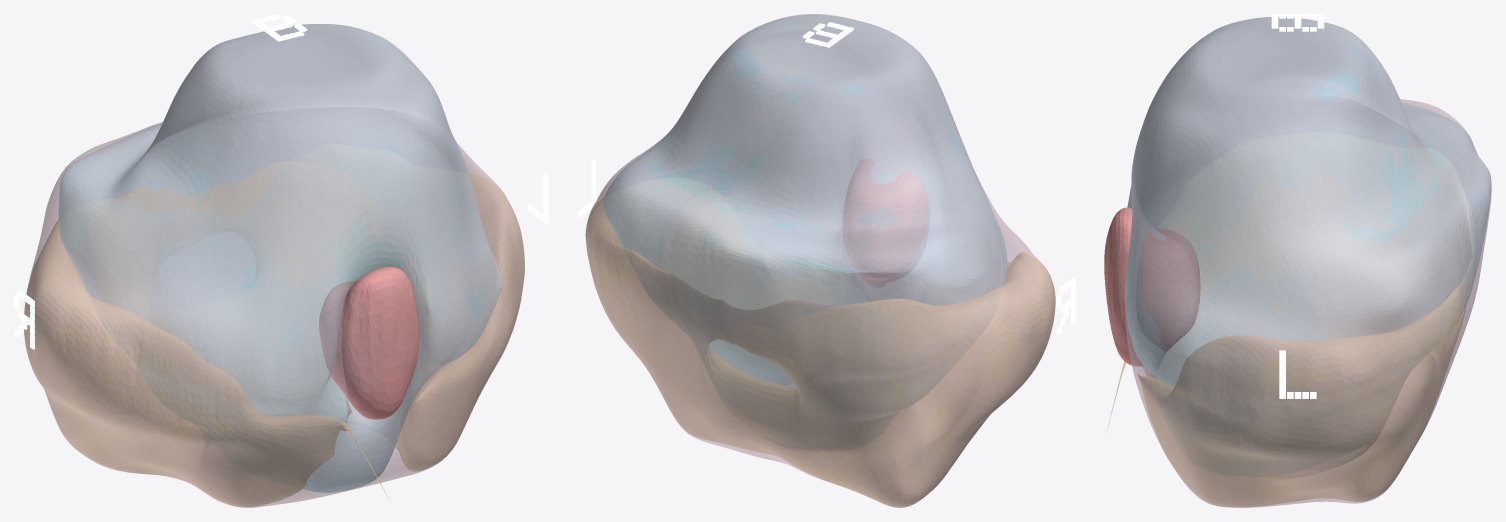
The picture shows the model from 3 angles, left to right: view 1: azimuth 30°, elevation 25°; view 2: azimuth 150°, elevation 25°; view 3: azimuth 270°, elevation 25°; orthographic projection. The views are drawn at different scales.
Visible parts, largest first — view 1: prostate_gland, transition_zone, peripheral_zone, lesion_01, pv_ar_marker_B, pv_ar_marker_R; view 2: prostate_gland, transition_zone, peripheral_zone, lesion_01, pv_ar_marker_B, pv_ar_marker_R; view 3: prostate_gland, transition_zone, peripheral_zone, lesion_01, pv_ar_marker_B, pv_ar_marker_L.
Part boxes in pixels (x1,y1,x2,y2): prostate_gland: (24,24,524,507); transition_zone: (59,24,502,492); peripheral_zone: (24,162,524,506); lesion_01: (319,267,419,419); pv_ar_marker_B: (252,14,307,41); pv_ar_marker_R: (14,290,34,349); prostate_gland: (585,14,1055,507); transition_zone: (603,15,1006,418); peripheral_zone: (586,193,1055,507); lesion_01: (842,159,929,287); pv_ar_marker_B: (802,22,853,47); pv_ar_marker_R: (1056,277,1075,334); prostate_gland: (1124,17,1491,507); transition_zone: (1125,17,1491,386); peripheral_zone: (1108,203,1473,506); lesion_01: (1104,207,1200,366); pv_ar_marker_B: (1271,14,1324,31); pv_ar_marker_L: (1279,350,1316,398).
Size of the model in its own units: 0.0512 by 0.0436 by 0.0335.
